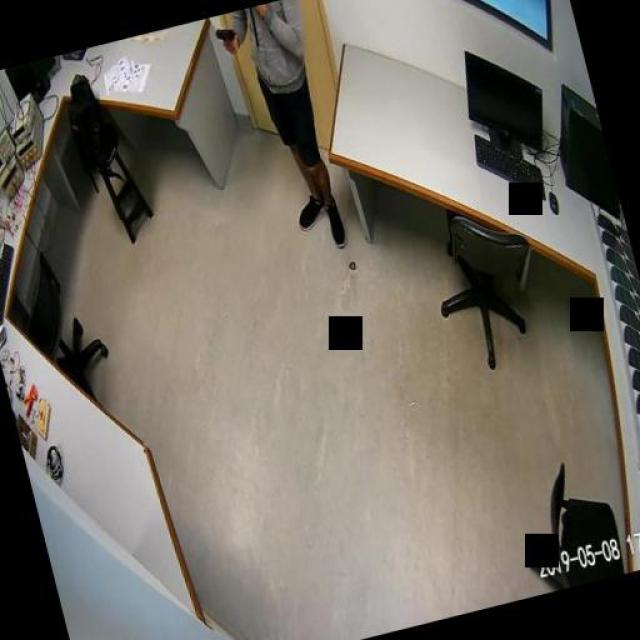gun: (212, 24, 238, 56)
